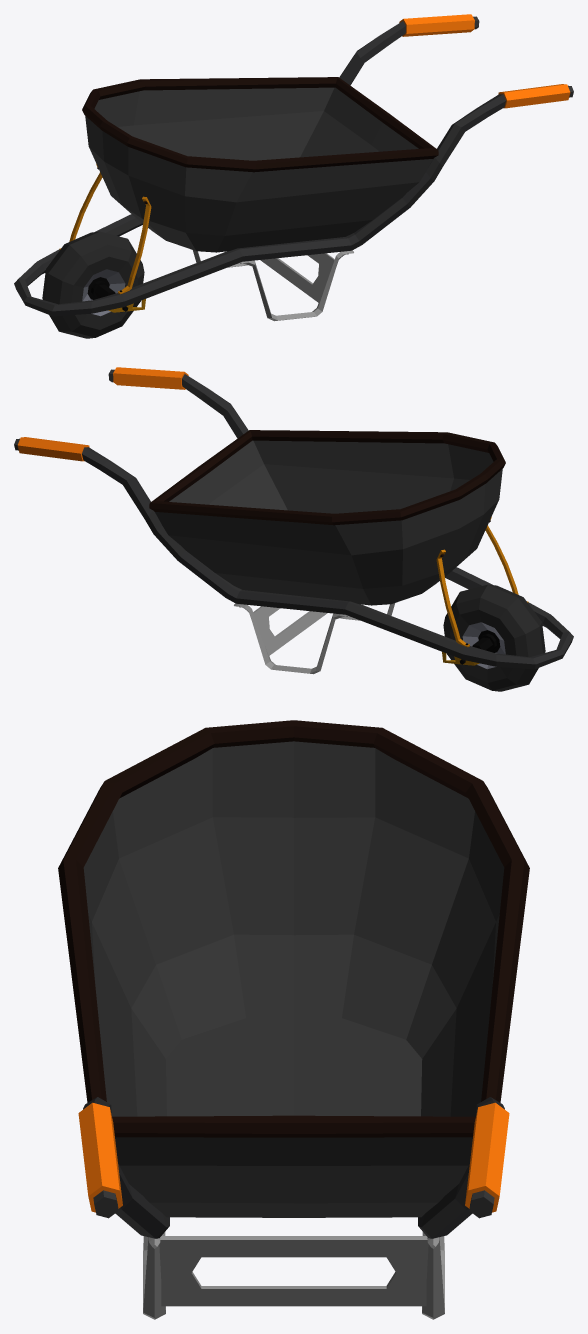
File: Carreta.fbx
3 views of the same model, one above another, from view 1: azimuth 30°, elevation 25°; view 2: azimuth 150°, elevation 25°; view 3: azimuth 270°, elevation 25° (orthographic). The views are drawn at different scales.
Visible parts, largest first — view 1: WheelBarrow-02; view 2: WheelBarrow-02; view 3: WheelBarrow-02.
Part boxes in pixels (x1,y1,x2,y2): WheelBarrow-02: (14, 14, 573, 338); WheelBarrow-02: (14, 367, 573, 691); WheelBarrow-02: (58, 720, 529, 1319).
Bounding box in the file's own units: 201 × 82.12 × 82.2.
1 material, 1 textured.
